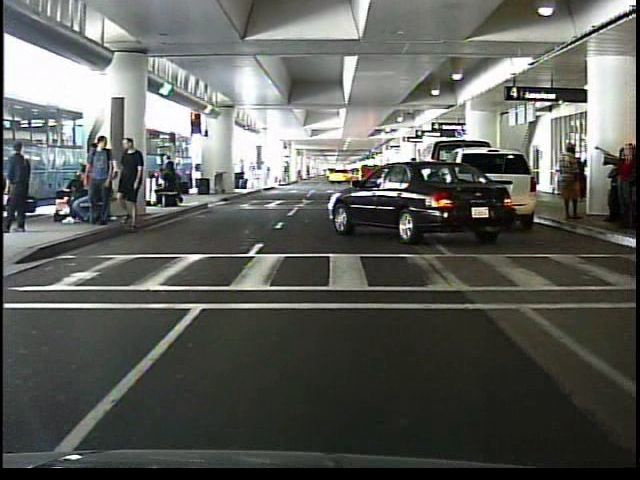person: (5, 138, 38, 238), (557, 142, 586, 225), (151, 163, 181, 210)
